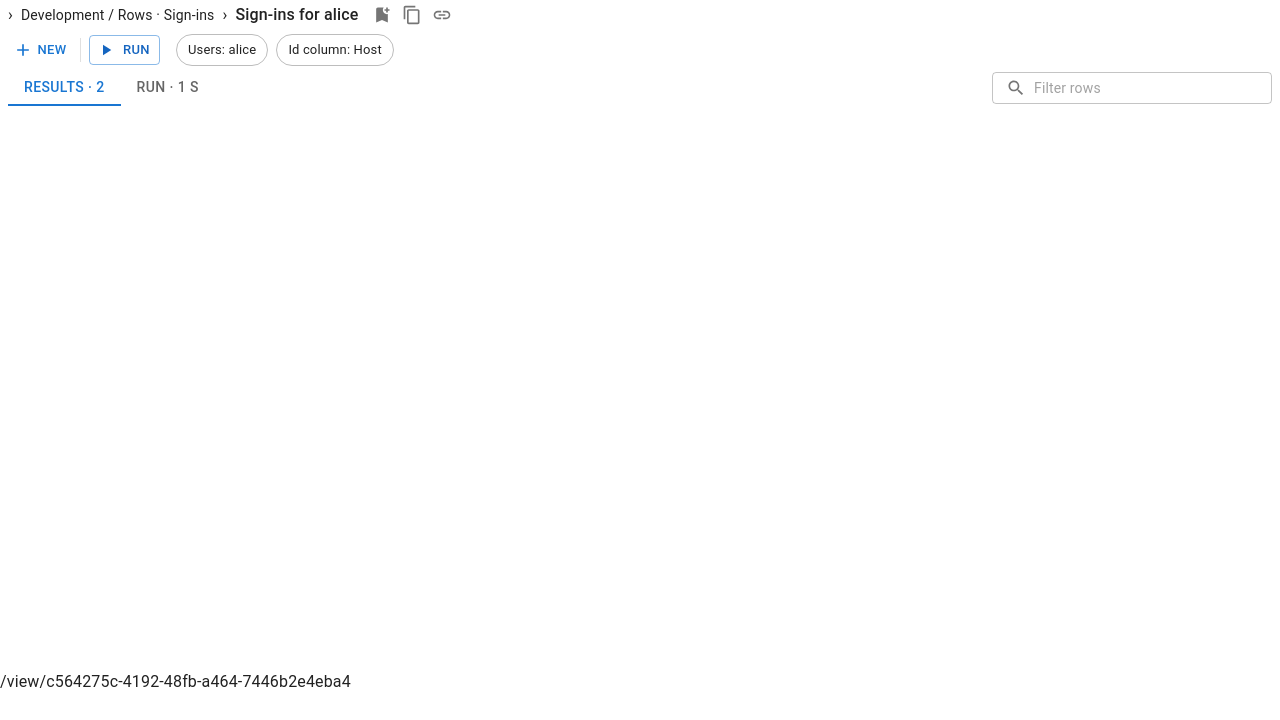
Test case: ActionTab › goes back to the action’s Id column when the Id column pill is cleared
Click the button "Id column: Host": (335, 50) x1=276 y1=34 x2=394 y2=66
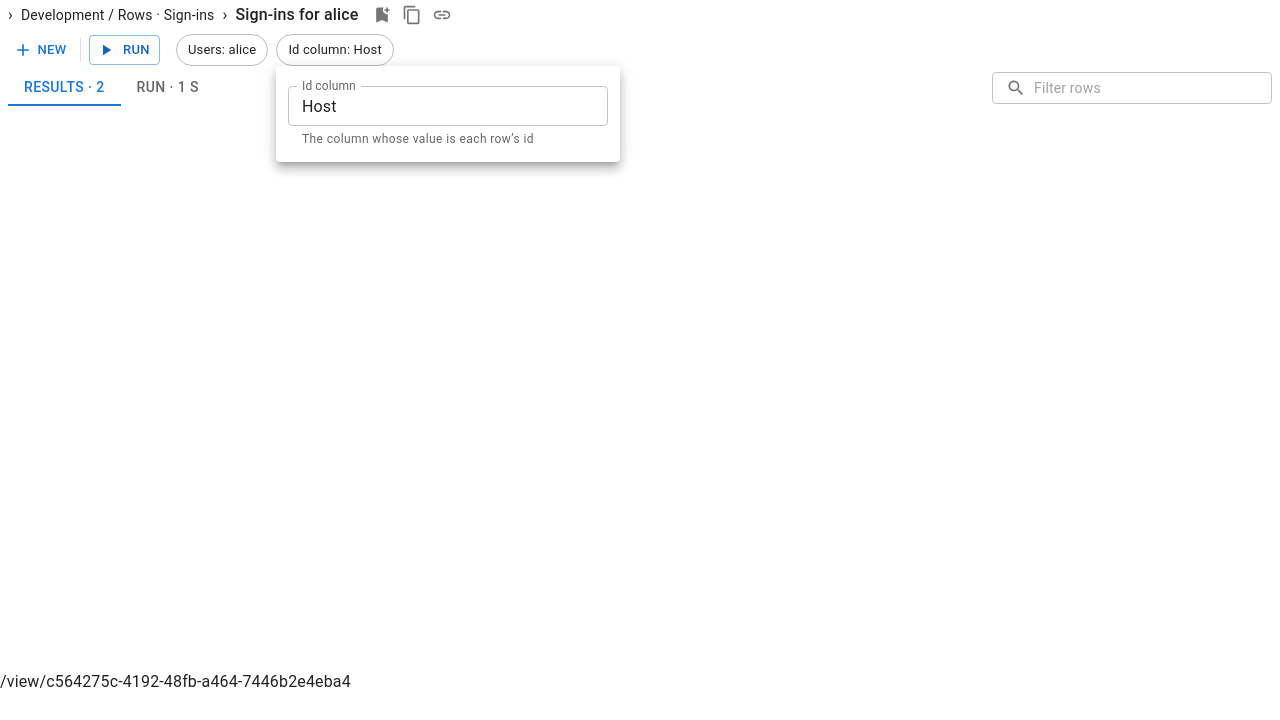
Clear the dropdown labelled "Id column": (432, 106) x1=294 y1=92 x2=569 y2=120
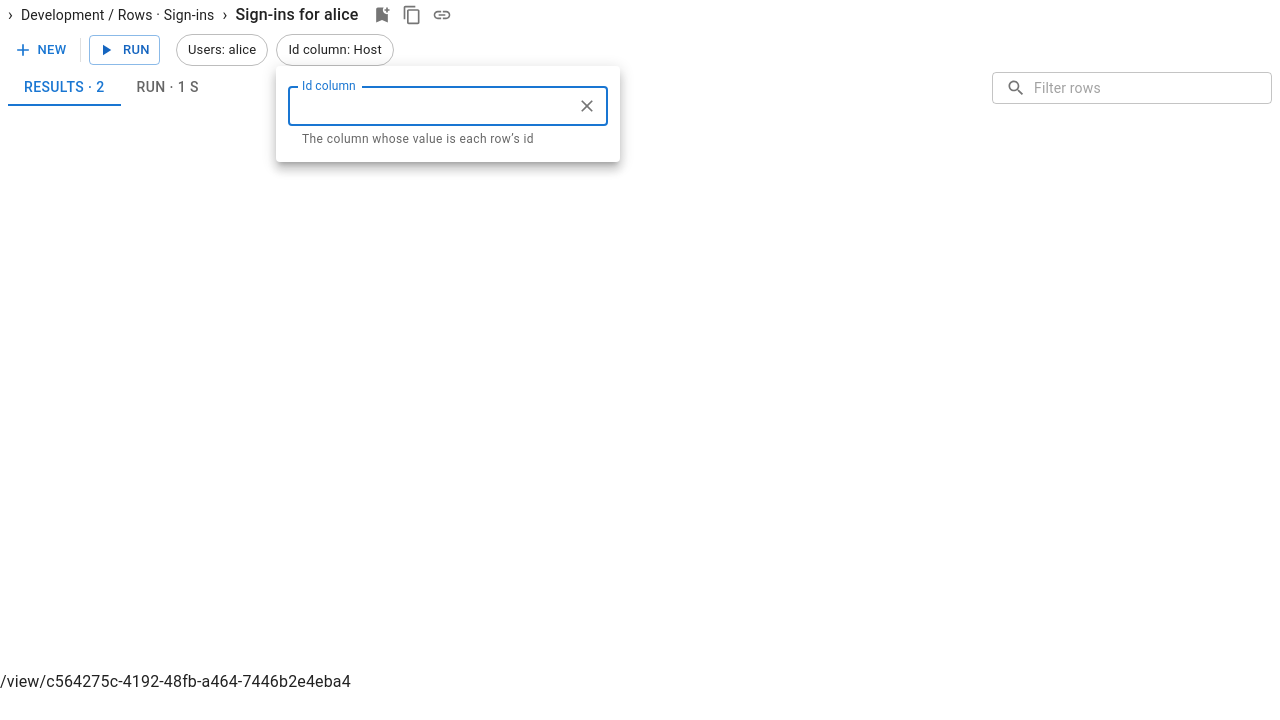
Press Escape Escape
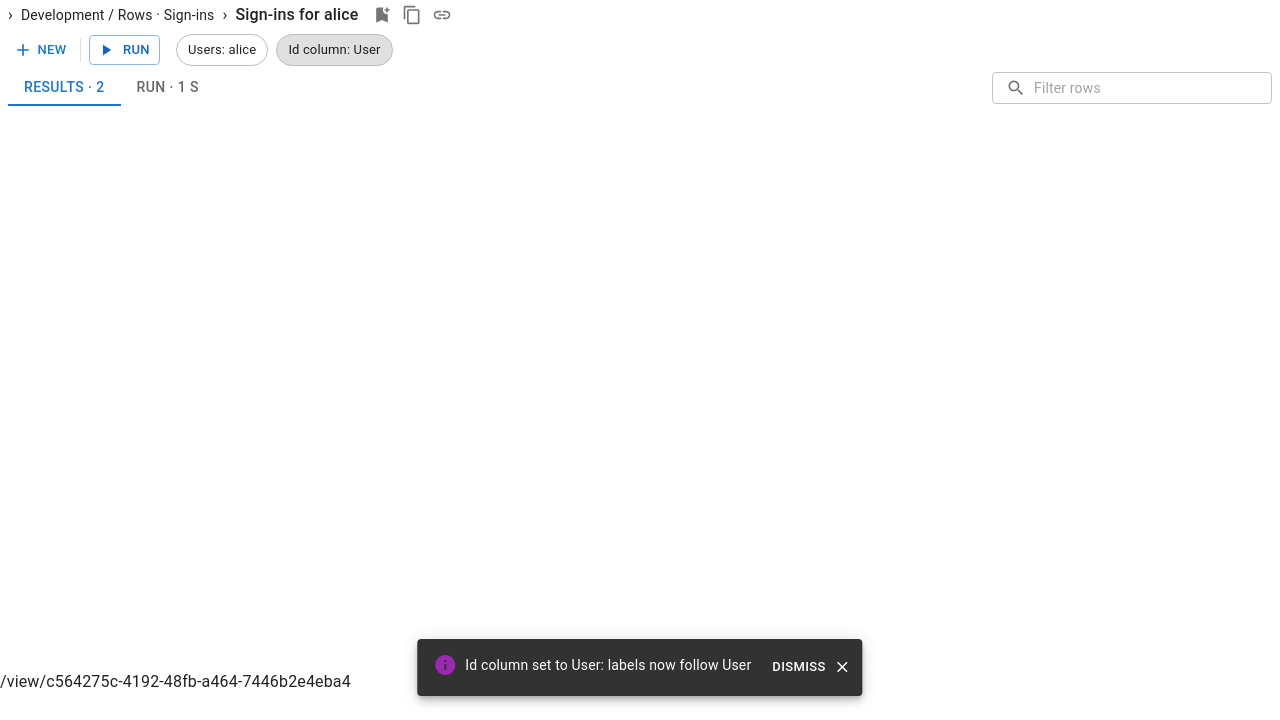
Now the button "Id column: User" is shown, box x1=276 y1=34 x2=393 y2=66
Now the text "Id column set to User: labels now follow User" is shown, box x1=433 y1=653 x2=751 y2=677
